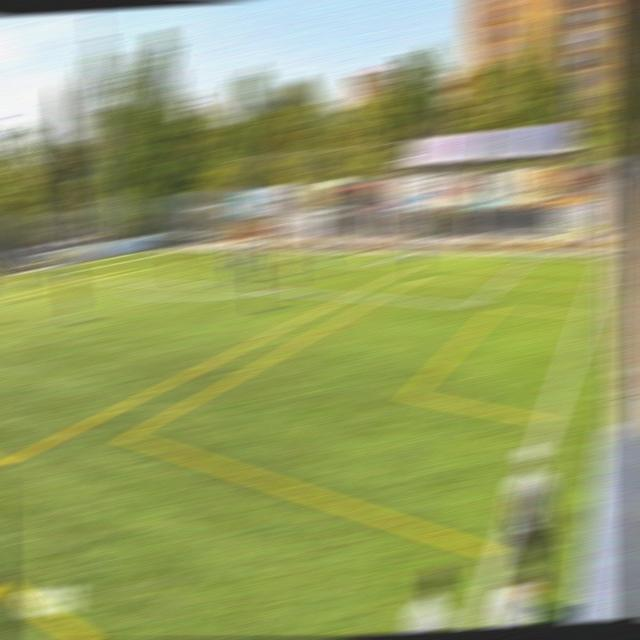bigarea_bottom_inner: (462, 296, 487, 314)
bigarea_bottom_outter: (519, 252, 540, 264)
bigarea_top_inner: (34, 272, 53, 285)
bottom_arc_area_intersection: (264, 282, 285, 299)
corner: (596, 251, 617, 264), (136, 250, 152, 253)
smallarea_bottom_inner: (365, 259, 387, 273)
smallarea_bottom_outter: (392, 249, 409, 260)
top_arc_area_intersection: (120, 274, 142, 290)
